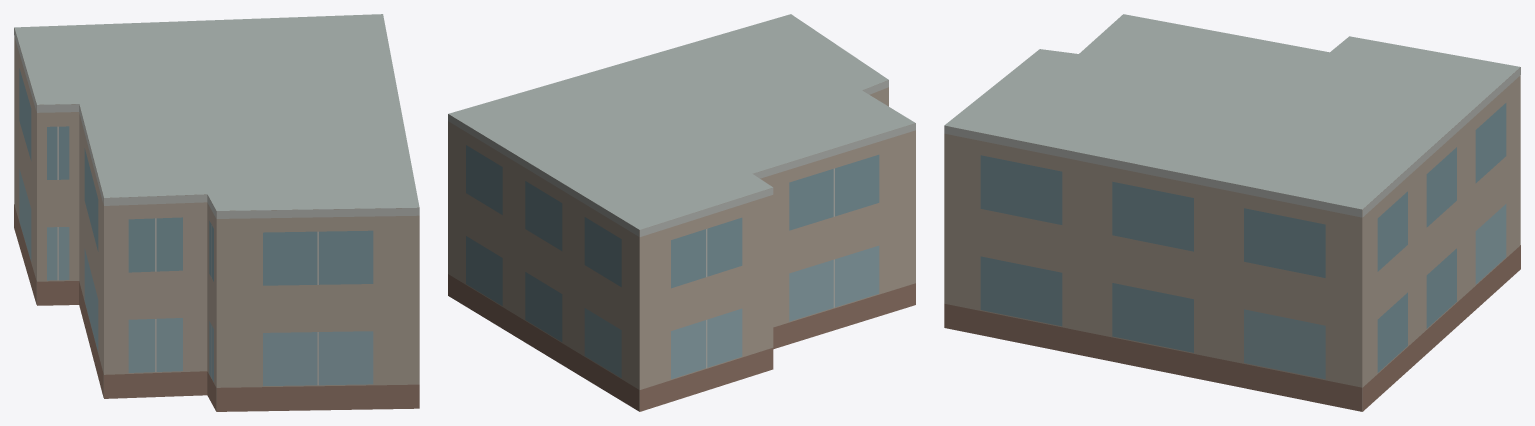
The model's file is survey-upis-32889259.glb.
3 views of the same model, side by side, from view 1: azimuth 30°, elevation 25°; view 2: azimuth 150°, elevation 25°; view 3: azimuth 270°, elevation 25° (orthographic). The views are drawn at different scales.
Visible parts, largest first — view 1: survey-upis-32889259.tmp; view 2: survey-upis-32889259.tmp; view 3: survey-upis-32889259.tmp.
Boxes of the visible parts, box(x1,y1,x2,y2) form: survey-upis-32889259.tmp: box(14, 14, 419, 411); survey-upis-32889259.tmp: box(448, 14, 915, 411); survey-upis-32889259.tmp: box(944, 14, 1520, 411).
Bounding box in the file's own units: 12.65 × 6.1 × 15.76.
